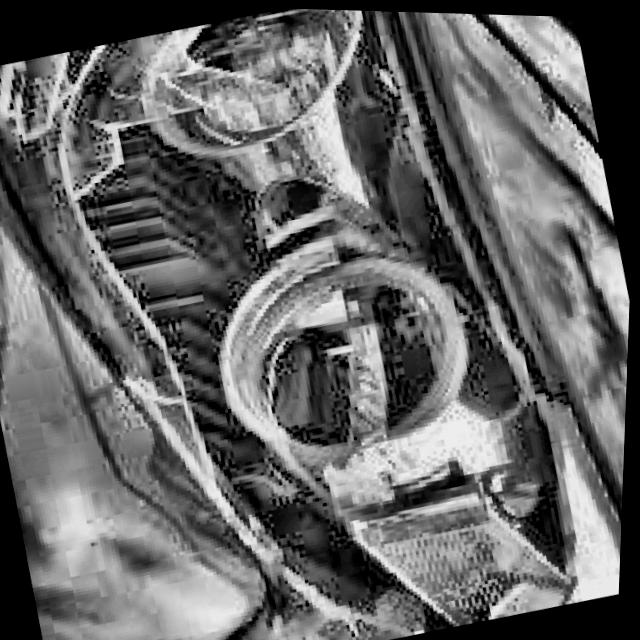head_lamp: (45, 2, 530, 528)
